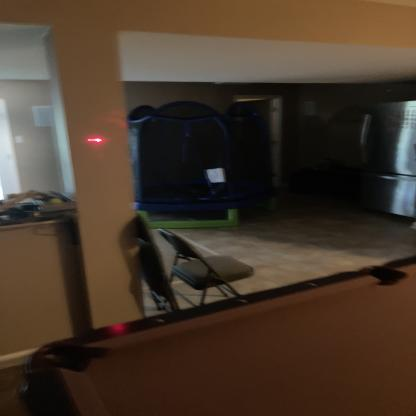target: (86, 134, 106, 146)
